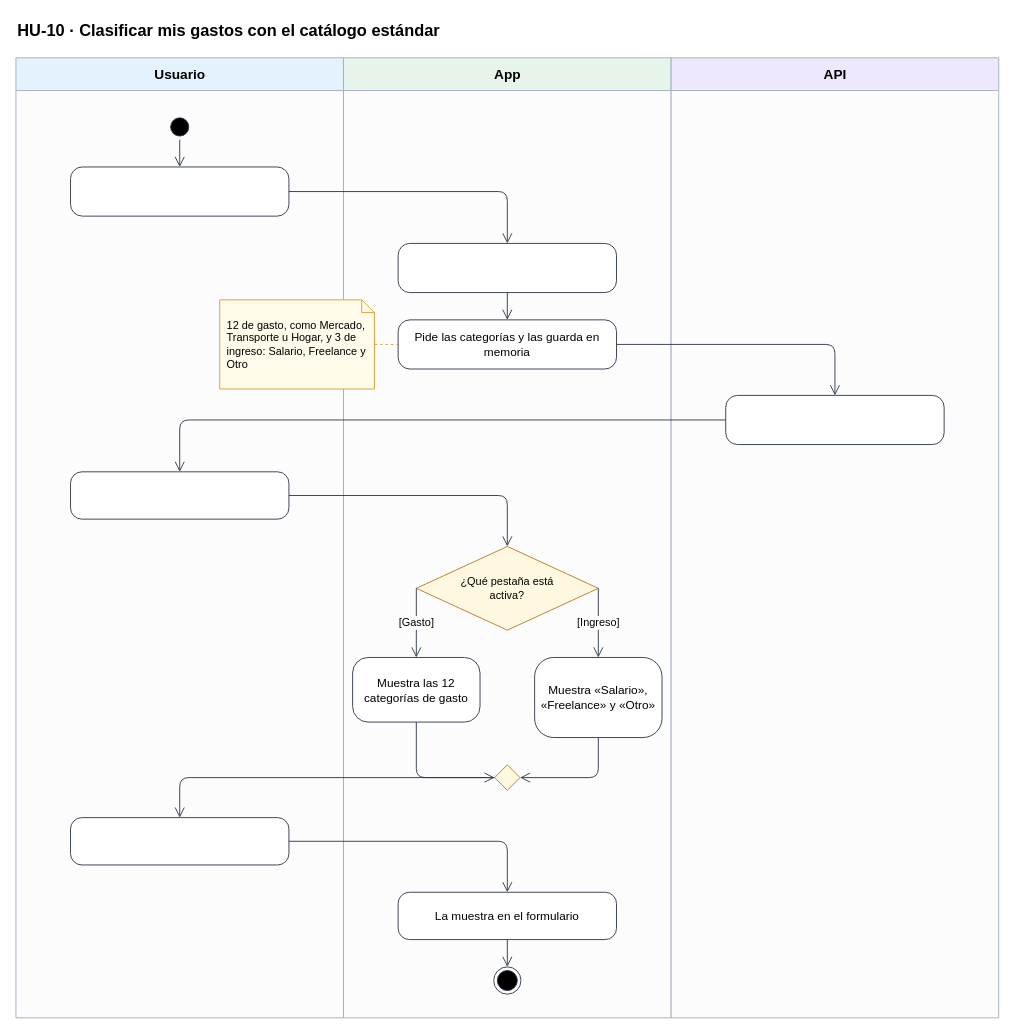
Some shapes in this 1015 by 1034 pixel diagram are drawn without their labels. The centre of each missing label's shape, as x and y in pixels:
Elige una categoría: point (179, 841)
Muestra el formulario manual en la pestaña «Gasto»: point (507, 268)
Toca el botón «+» y luego «Llenarlo a mano»: point (179, 191)
Toca «Categoría»: point (179, 495)
Une las 15 categorías estándar con las propias de Ana: point (834, 419)
